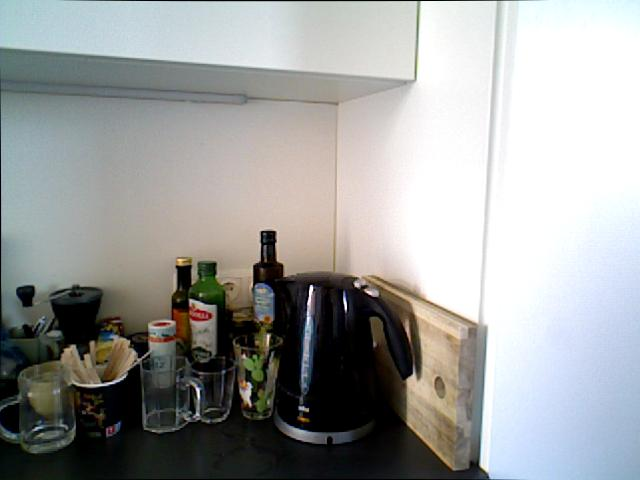bench: (187, 260, 226, 363), (251, 229, 284, 332), (170, 256, 192, 354)
handbag: (60, 350, 140, 443), (0, 360, 76, 454), (139, 355, 203, 433), (232, 332, 283, 420), (187, 355, 236, 424)
hot dog: (475, 0, 640, 480)
